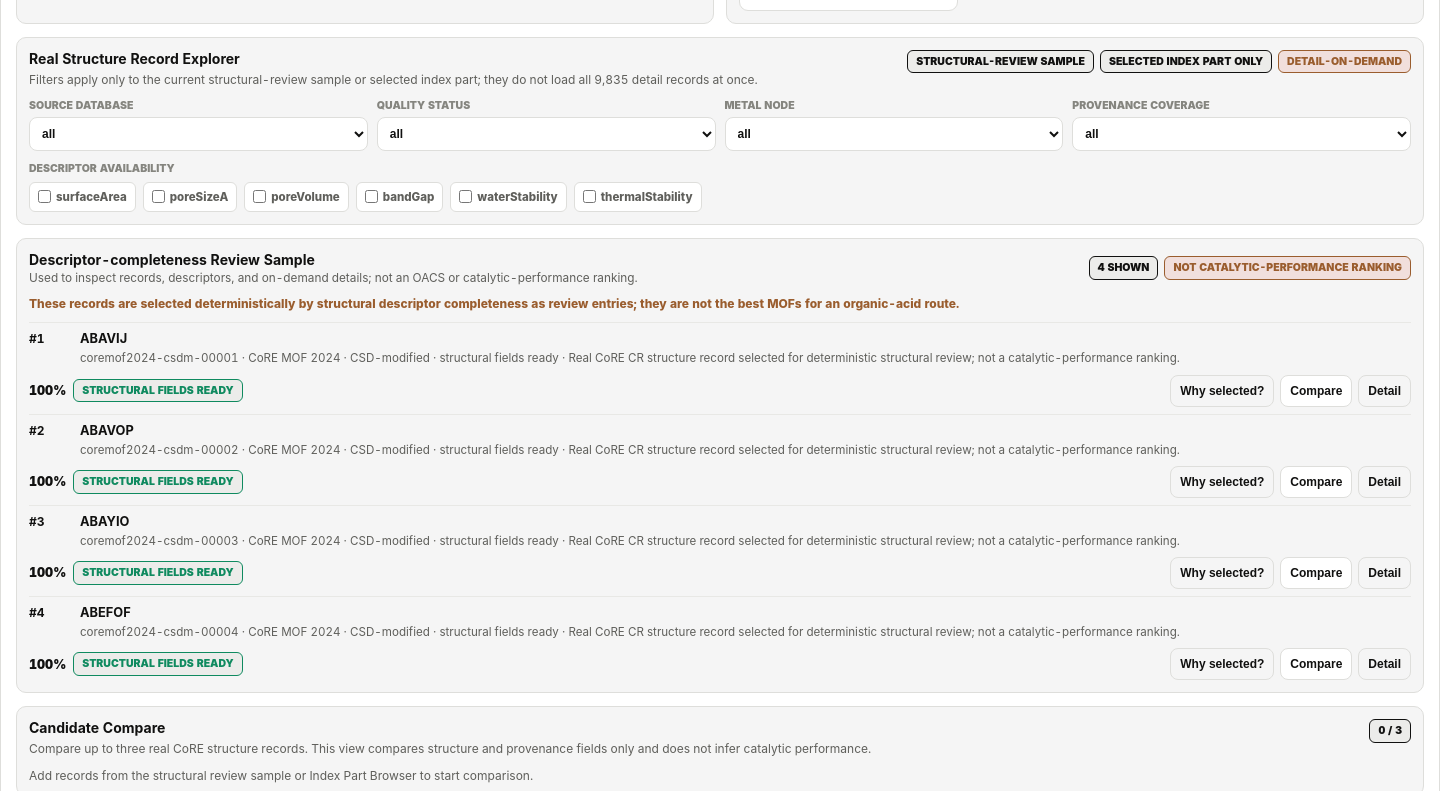
it: DatabaseIndexWorkbench › compares at most three real structure records
This screenshot has width=1440, height=791.
(page scrolled)
Expected: the text "ABAVIJ" is shown, [80,331,127,346]
Click the 1st button "Compare" at (1316, 390), box [1280,374,1352,406]
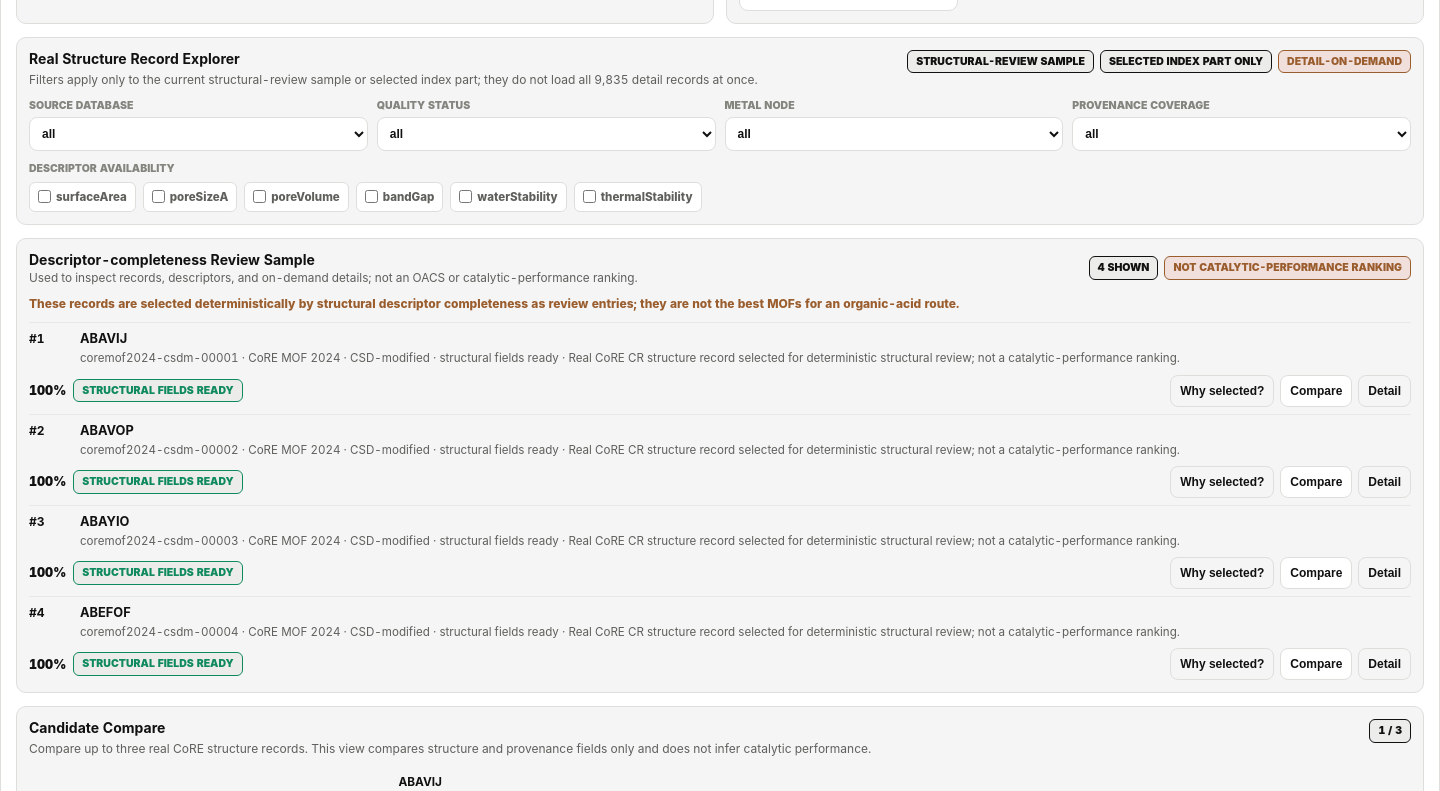
Click the 2nd button "Compare" at (1316, 482), box [1280,466,1352,498]
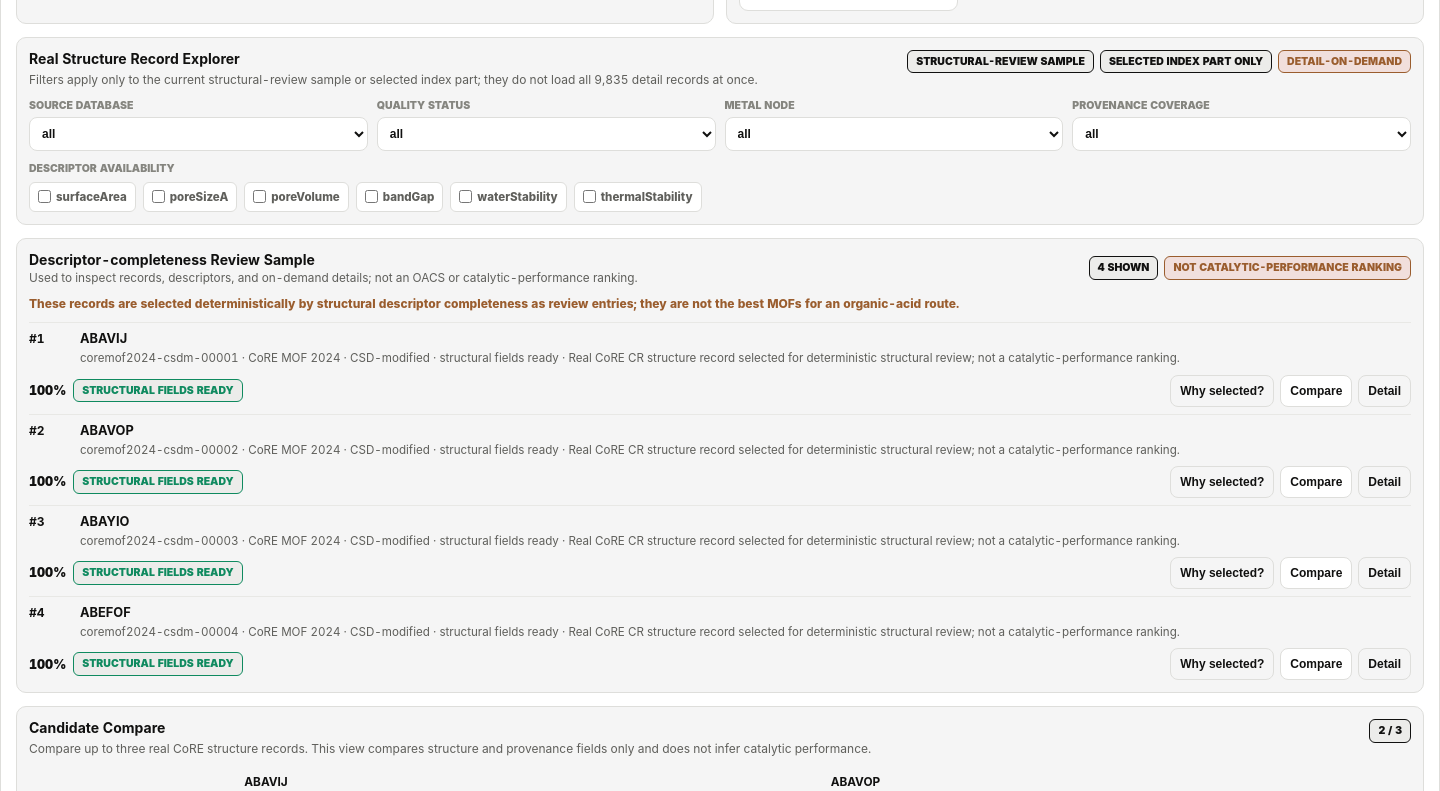
Click the 3rd button "Compare" at (1316, 573), box [1280,557,1352,589]
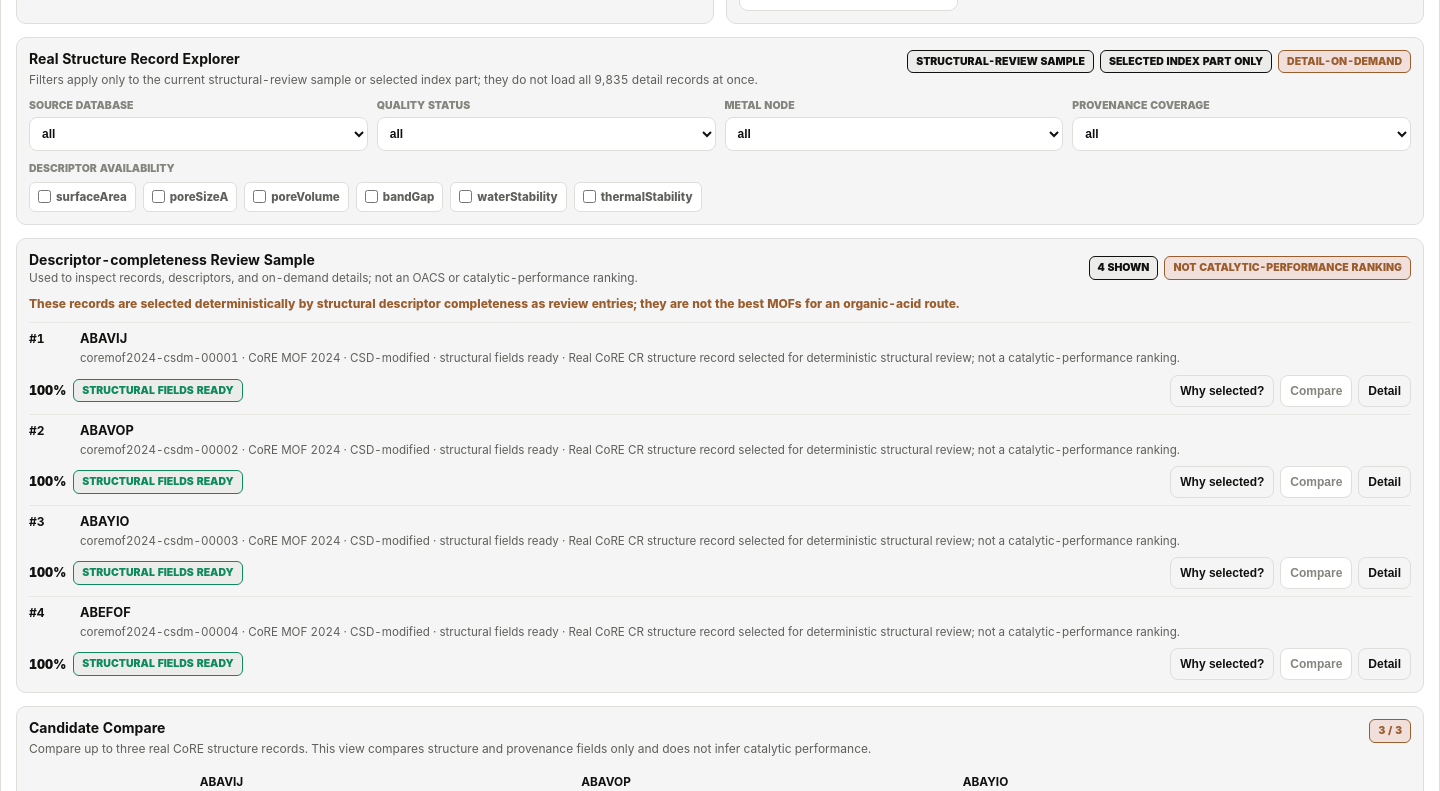
Expected: the text "does not infer catalytic performance" is shown, [29,741,871,756]
Expected: the 4th button "Compare" is disabled, [1280,648,1352,680]
